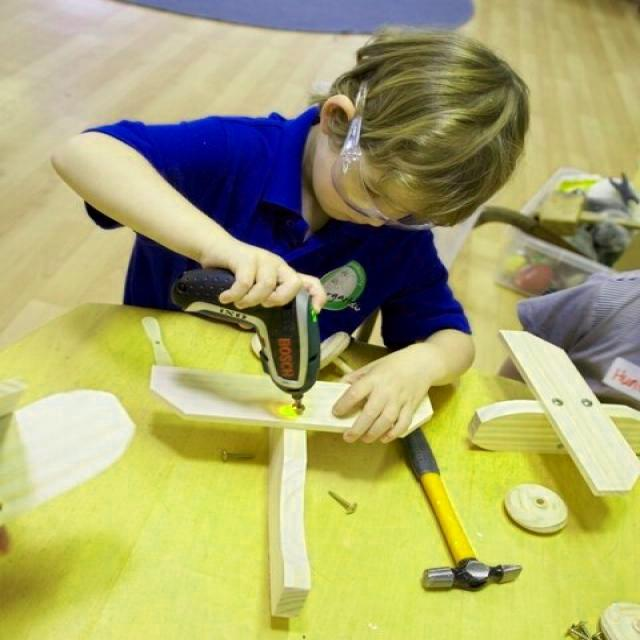hammer: (394, 414, 536, 594)
